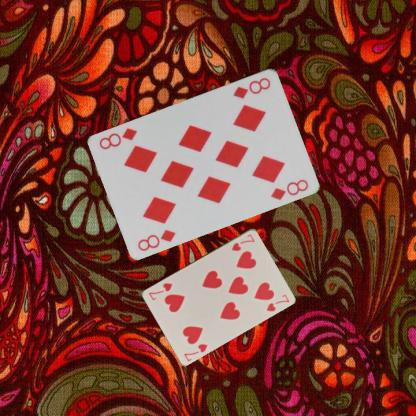7h: (229, 231, 256, 252), (182, 341, 209, 362)
8d: (135, 226, 177, 252), (231, 74, 272, 100)
